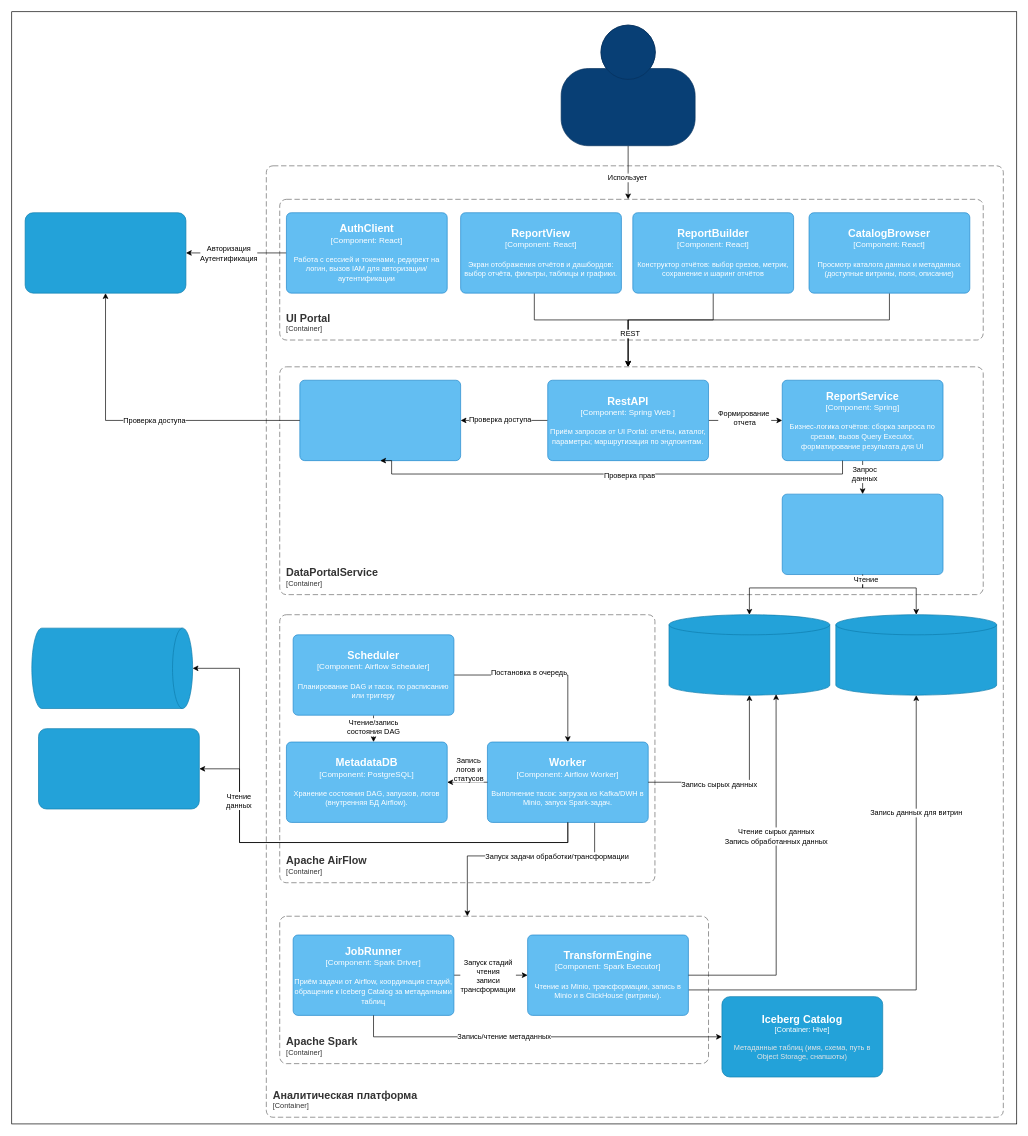
Some shapes in this 1028 by 1136 pixel diagram are drawn without their labels. Each missing label, with the centre of its shape:
"AccessControl [Component: Spring Security] Проверка прав пользователя" goes at (380,420).
"AnalyticsDB [Container: ClickHouse] Аналитические данные для витрин" goes at (916,654).
"DataLake [Container: S3 Minio] Хранение данных (до и после обработки)" goes at (749,654).
"DWH [Container: SQL Server]" goes at (118,768).
"IAM [Container: Keycloak] Авторизация и аутентифкация" goes at (105,252).
"QueryExecutor [Component: Spring/JDBC/S3 Client] Выполнение запросов к данным" goes at (862,534).
"Аналитик [Person] Аналитик данных" goes at (627,85).
"Шина событий [Container: Apache Kafka]" goes at (112,668).
